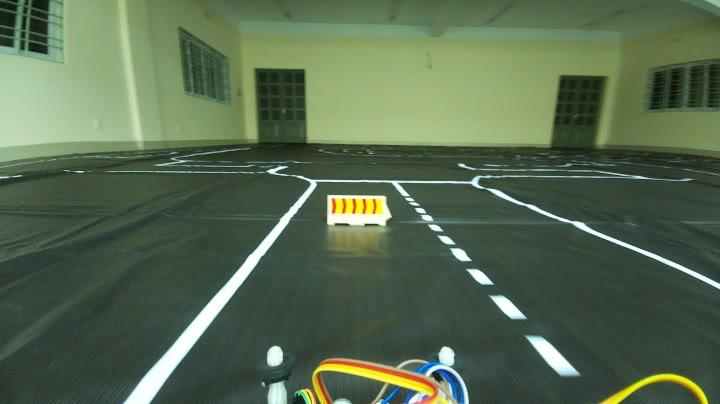roadblock: (318, 188, 398, 238)
